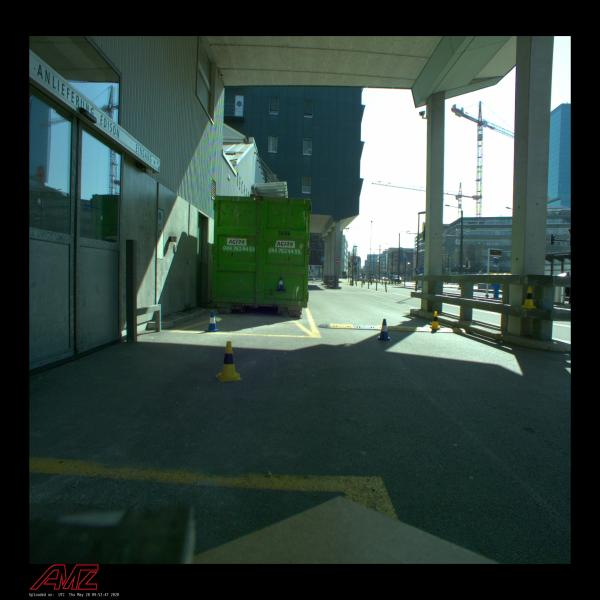blue_cone: (377, 319, 391, 341), (204, 311, 218, 332), (277, 277, 285, 291)
yellow_cone: (215, 340, 242, 383), (521, 286, 536, 309), (430, 311, 440, 330)
